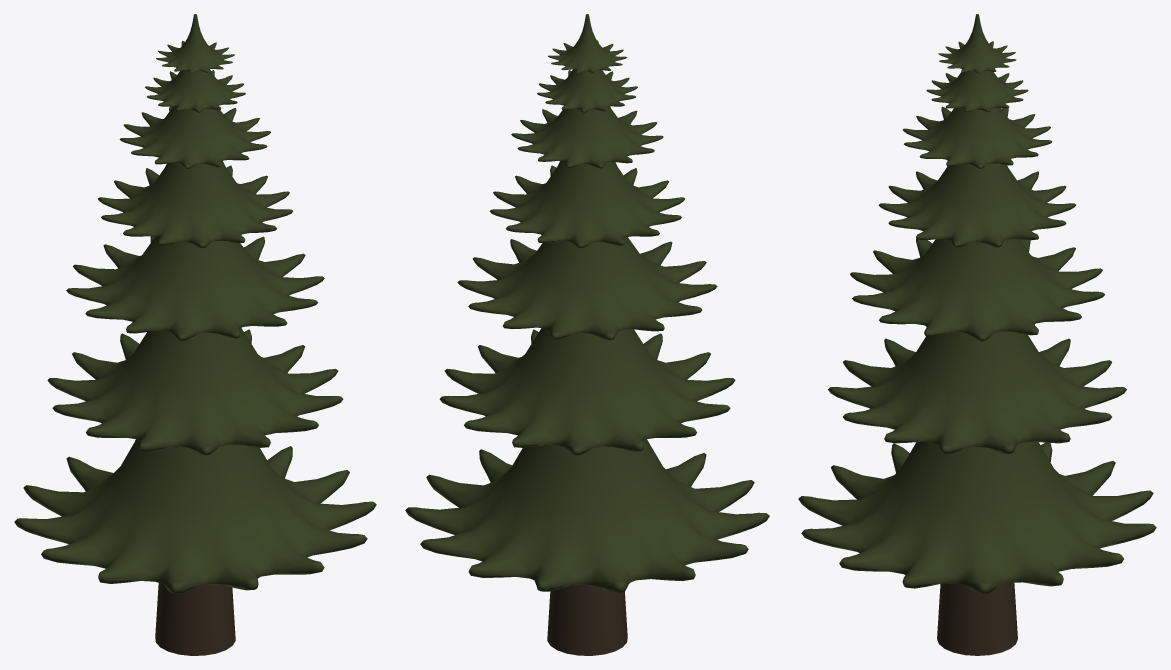
The model's file is pine_tree3D.fbx.
3 renders of one model, left to right at view 1: azimuth 30°, elevation 25°; view 2: azimuth 150°, elevation 25°; view 3: azimuth 270°, elevation 25°, orthographic.
Parts seen in each view (by area): view 1: leaves, trunk1; view 2: leaves, trunk1; view 3: leaves, trunk1.
Part boxes in pixels (left/top/right/bottom): leaves: left=14, top=14, right=376, bottom=593; trunk1: left=155, top=583, right=235, bottom=655; leaves: left=405, top=14, right=769, bottom=592; trunk1: left=547, top=584, right=627, bottom=655; leaves: left=798, top=14, right=1156, bottom=593; trunk1: left=937, top=582, right=1017, bottom=655.
Size of the model in its own units: 24.47 by 46.23 by 24.06.
